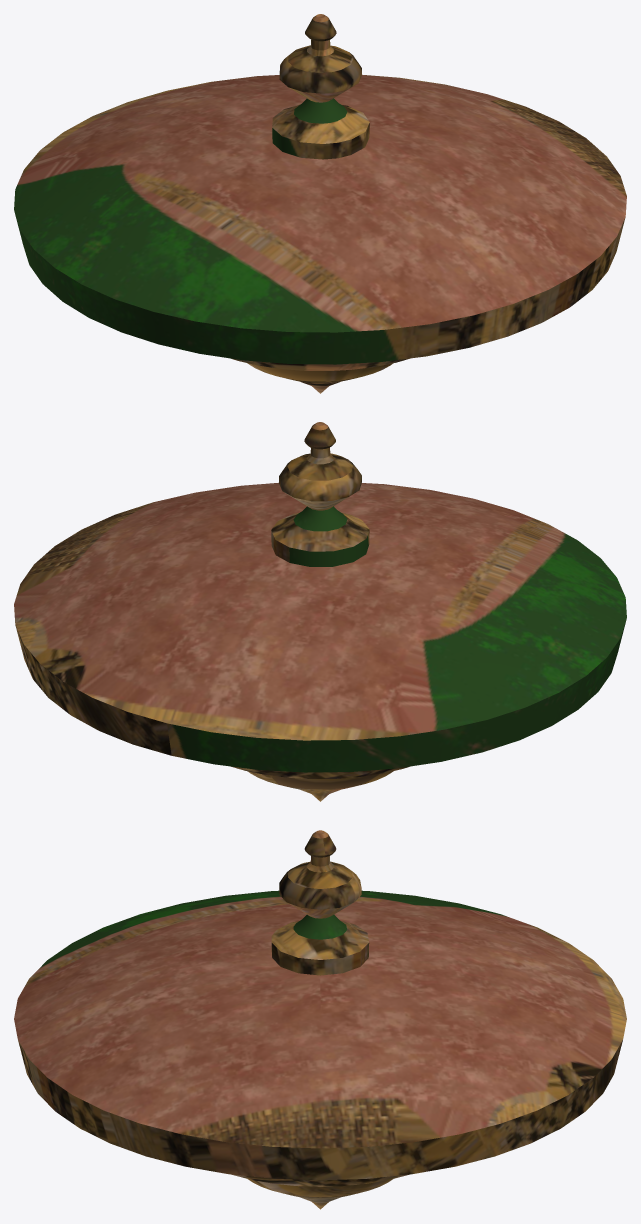
File: xi_oam_hanginglamp_flat.gltf
3 views of the same model, one above another, from view 1: azimuth 30°, elevation 25°; view 2: azimuth 150°, elevation 25°; view 3: azimuth 270°, elevation 25° (orthographic).
Parts seen in each view (by area): view 1: xi_oam_hanginglamp_flat; view 2: xi_oam_hanginglamp_flat; view 3: xi_oam_hanginglamp_flat.
Boxes of the visible parts, x1=… form: xi_oam_hanginglamp_flat: x1=14, y1=14, x2=626, y2=393; xi_oam_hanginglamp_flat: x1=14, y1=422, x2=626, y2=801; xi_oam_hanginglamp_flat: x1=14, y1=830, x2=626, y2=1209.
Size of the model in its own units: 0.5745 by 0.3903 by 0.5745.
1 material, 1 textured.
